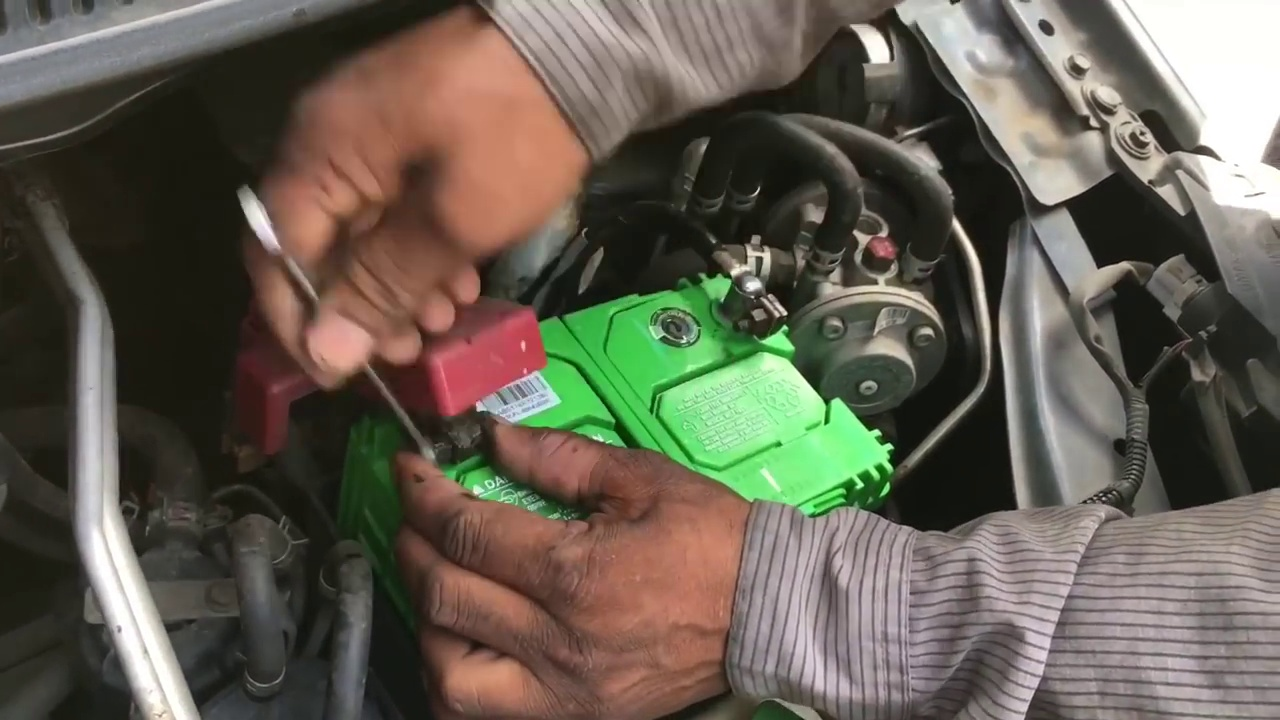battery: (336, 236, 887, 610)
neg_connected: (679, 221, 786, 362)
pos_connected: (337, 242, 576, 574)
